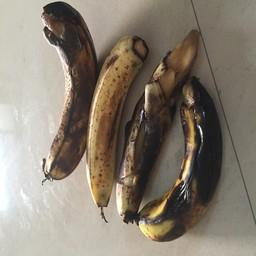Bad_banana: (36, 1, 229, 252)
